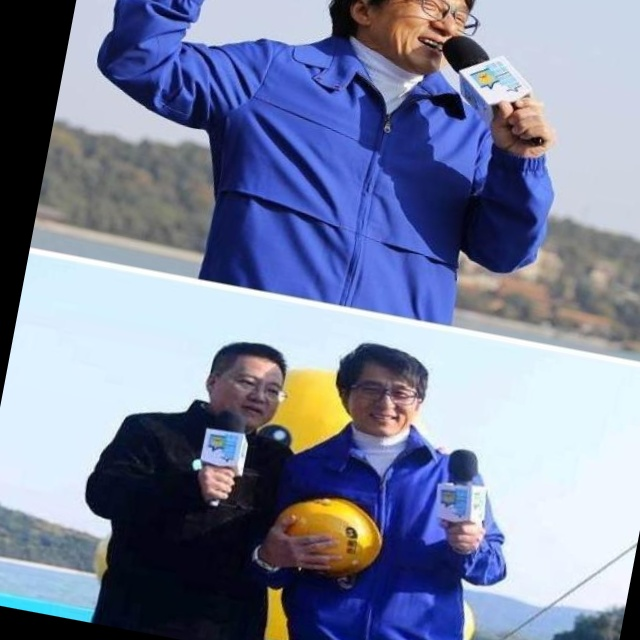Sin_Casco_Mascarrilla: (323, 0, 498, 78), (200, 333, 298, 417)
Sin_Chaleco: (263, 413, 506, 640), (83, 400, 292, 640)
